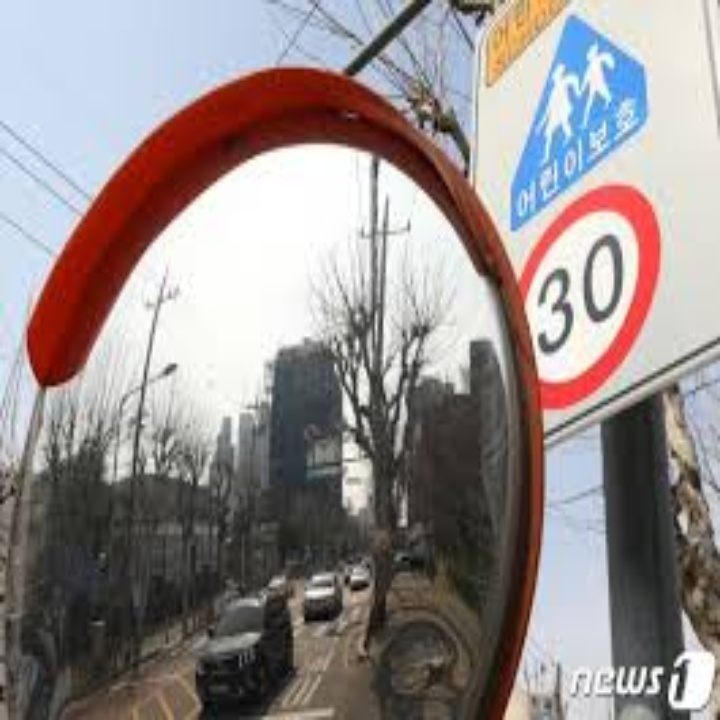child: (481, 29, 659, 207)
